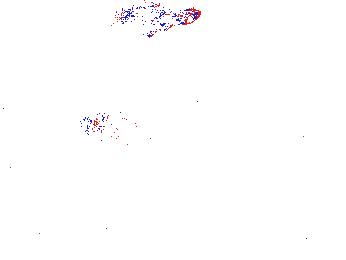X-ray fish: (76, 108, 145, 149), (38, 162, 98, 201)
redtail glassfish: (115, 1, 202, 42)
